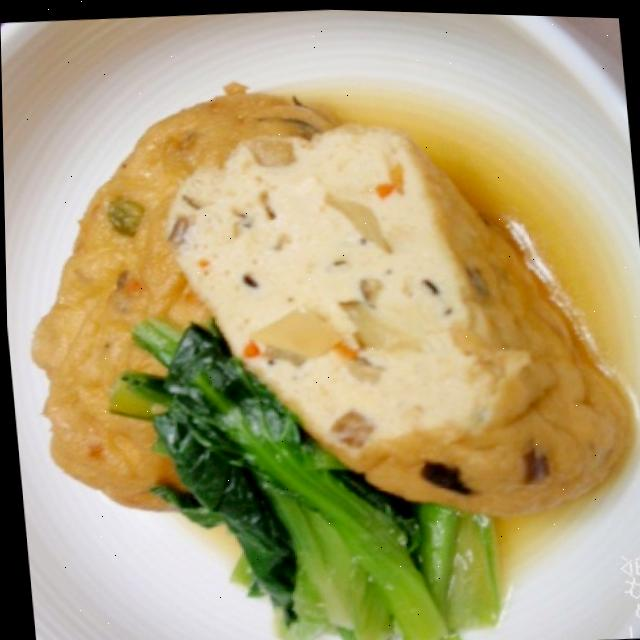熟制海鲜: (7, 58, 640, 584)
